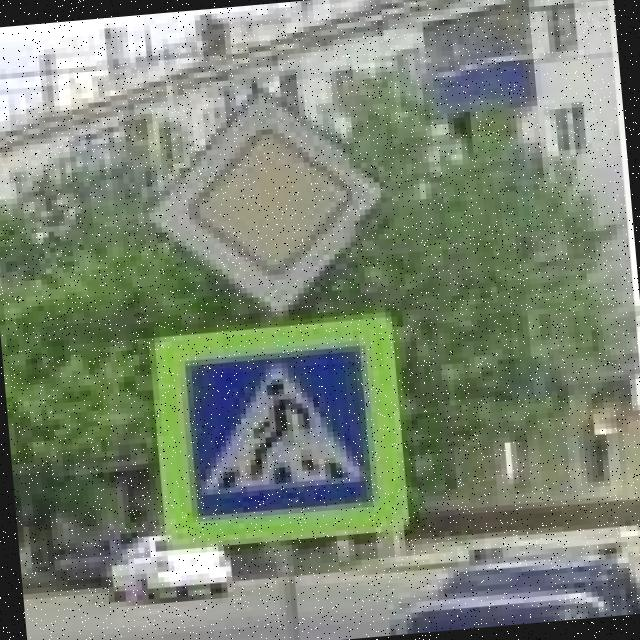Droga z pierwszenstwem: (133, 76, 401, 326)
Przejscie dla pieszych: (148, 311, 415, 550)
